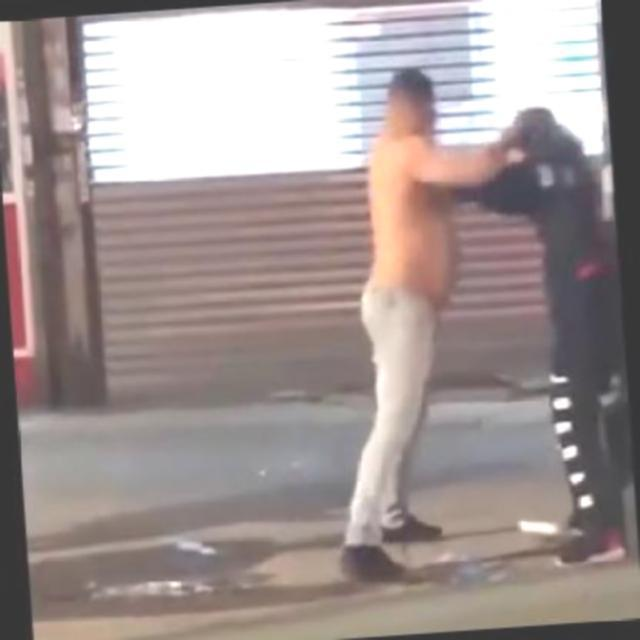fight: (336, 53, 633, 582)
